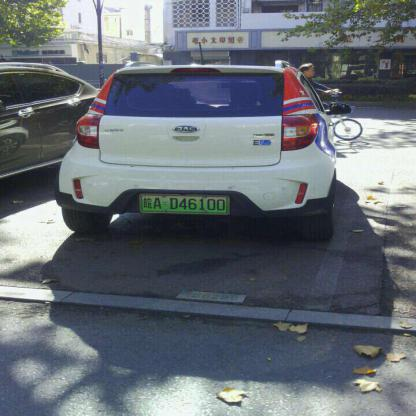lp: (141, 194, 226, 213)
